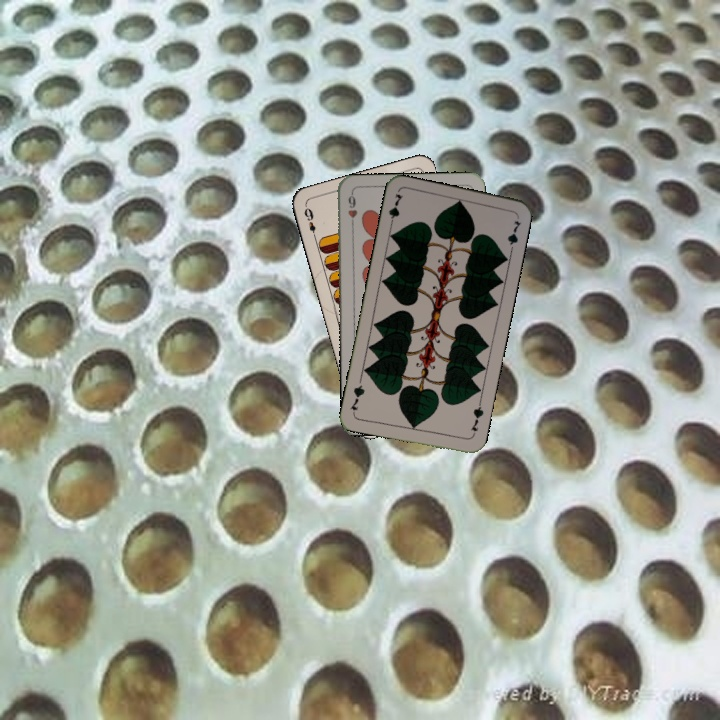E9: (300, 202, 319, 242)
G7: (385, 189, 406, 230), (467, 399, 486, 439)
H9: (344, 190, 360, 230)
